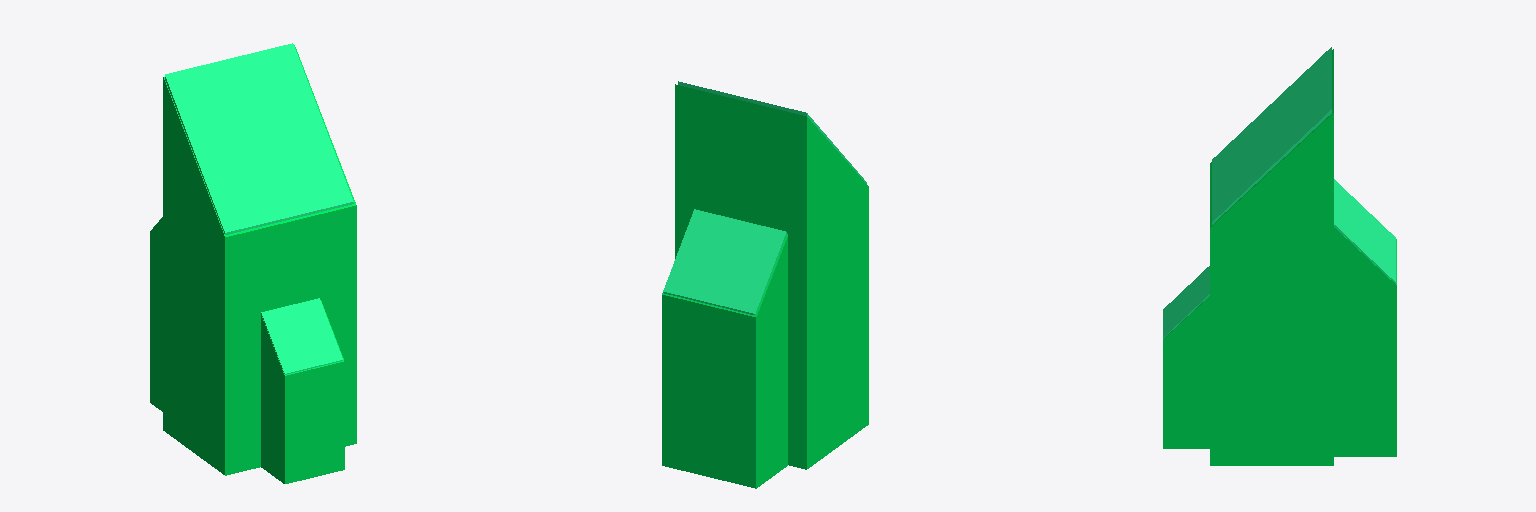
Rendered from SmallCrystal.obj.
The picture shows the model from 3 angles: view 1: azimuth 30°, elevation 25°; view 2: azimuth 150°, elevation 25°; view 3: azimuth 270°, elevation 25°; orthographic projection.
Parts seen in each view (by area): view 1: Invisipart3, Invisipart4, Invisipart5, Invisipart6, Invisipart1; view 2: Invisipart3, Invisipart1, Invisipart2, Invisipart4; view 3: Invisipart3, Invisipart1, Invisipart4, Invisipart5, Invisipart2, Invisipart6.
Part boxes in pixels (left/top/right/bottom): Invisipart3: left=163, top=45, right=356, bottom=475; Invisipart4: left=165, top=43, right=353, bottom=234; Invisipart5: left=261, top=301, right=344, bottom=483; Invisipart6: left=261, top=298, right=342, bottom=374; Invisipart1: left=150, top=217, right=162, bottom=411; Invisipart3: left=675, top=84, right=868, bottom=469; Invisipart1: left=662, top=234, right=787, bottom=488; Invisipart2: left=663, top=209, right=786, bottom=314; Invisipart4: left=678, top=81, right=866, bottom=183; Invisipart3: left=1210, top=49, right=1333, bottom=465; Invisipart1: left=1334, top=227, right=1396, bottom=456; Invisipart4: left=1212, top=47, right=1331, bottom=224; Invisipart5: left=1163, top=296, right=1209, bottom=448; Invisipart2: left=1334, top=179, right=1395, bottom=283; Invisipart6: left=1163, top=266, right=1209, bottom=338.
Bounding box in the file's own units: 2.05 × 5.33 × 3.18.